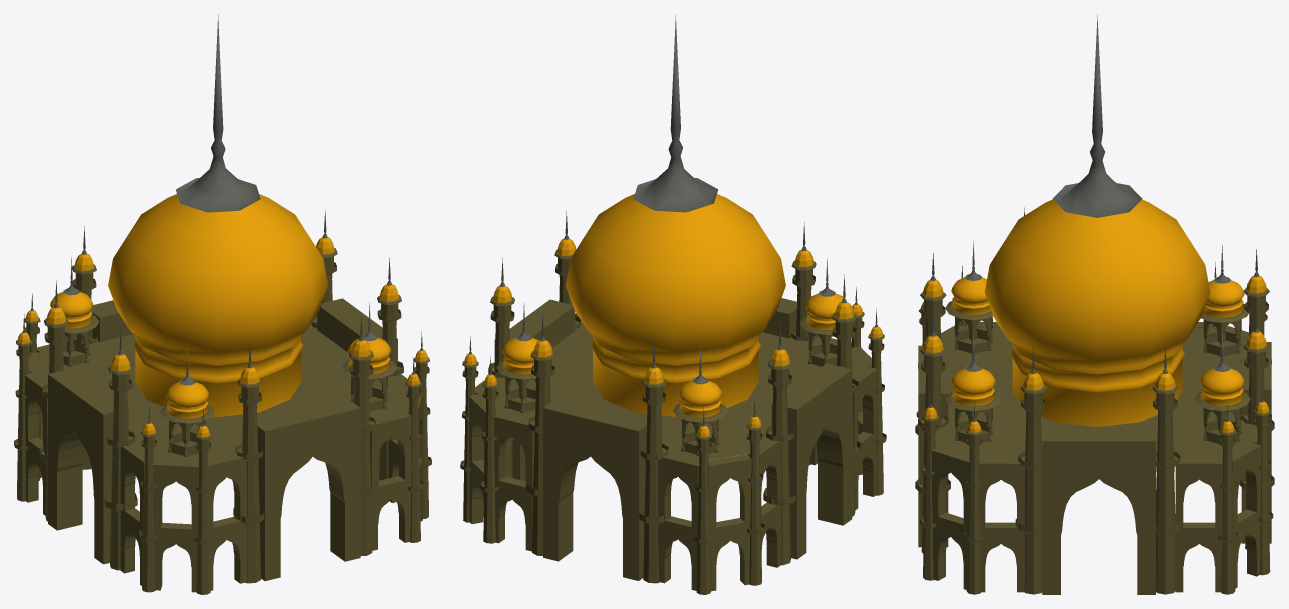
Rendered from uploads_files_3284823_untitled.fbx.
The picture shows the model from 3 angles, left to right: view 1: azimuth 30°, elevation 25°; view 2: azimuth 150°, elevation 25°; view 3: azimuth 270°, elevation 25°; orthographic projection. The views are drawn at different scales.
Parts seen in each view (by area): view 1: objpolySurface3772; view 2: objpolySurface3772; view 3: objpolySurface3772.
Part boxes in pixels (left/top/right/bottom): objpolySurface3772: left=14, top=14, right=431, bottom=594; objpolySurface3772: left=460, top=15, right=886, bottom=594; objpolySurface3772: left=915, top=14, right=1274, bottom=594.
Bounding box in the file's own units: 159 × 248 × 159.
